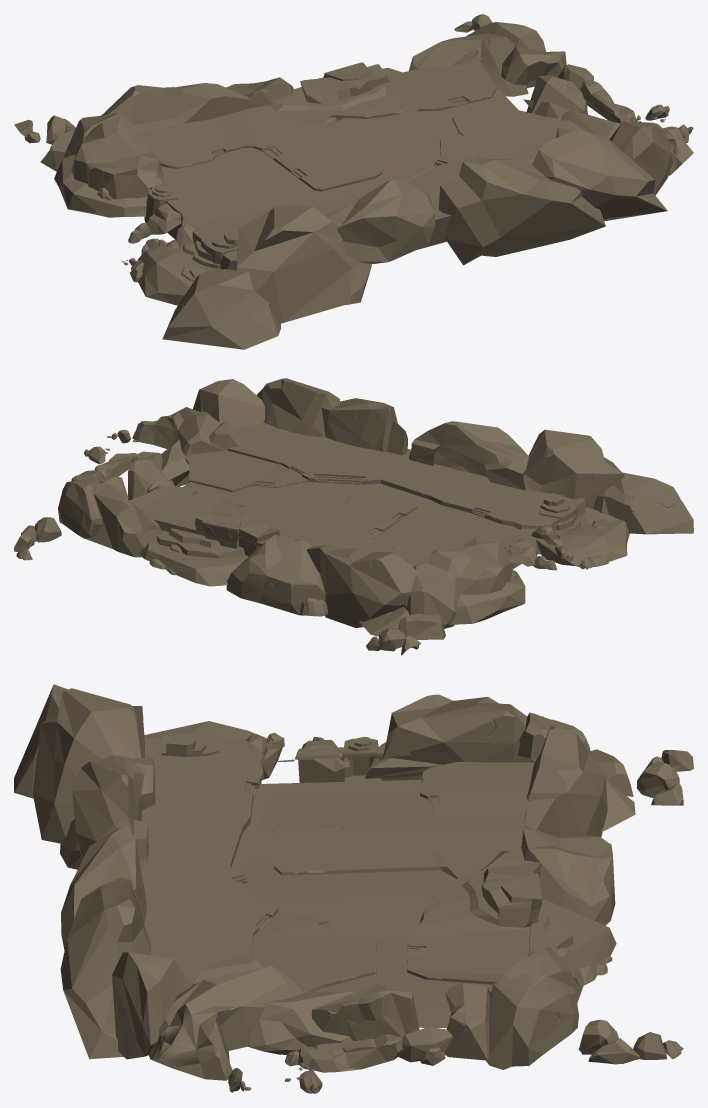
File: Tunisia Ground_Rock.fbx
3 renders of one model, top to bottom at view 1: azimuth 30°, elevation 25°; view 2: azimuth 150°, elevation 25°; view 3: azimuth 270°, elevation 25°, orthographic. The views are drawn at different scales.
Parts seen in each view (by area): view 1: Tunisia Ground_BaseA, Tunisia Ground_Rocks_17.001, Tunisia Ground_Rocks_03.001, Tunisia Ground_Rocks_17, Tunisia Ground_Rocks_01.001, Tunisia Ground_Rocks_03.002, Tunisia Ground_Rocks_09.001, Tunisia Ground_Rocks_06.016, Tunisia Ground_Rocks_04.001, Tunisia Ground_Rocks_06.018, Tunisia Ground_Rocks_18.001, Tunisia Ground_Rocks_08.001 (+10 smaller); view 2: Tunisia Ground_BaseA, Tunisia Ground_Rocks_06.016, Tunisia Ground_Rocks_06.017, Tunisia Ground_Rocks_03.002, Tunisia Ground_Rocks_03.001, Tunisia Ground_Rocks_01.001, Tunisia Ground_Rocks_06.019, Tunisia Ground_Rocks_04.001, Tunisia Ground_Rocks_17.001, Tunisia Ground_Rocks_19.001, Tunisia Ground_Rocks_09.001, Tunisia Ground_Rocks_17 (+13 smaller); view 3: Tunisia Ground_BaseA, Tunisia Ground_Rocks_19.001, Tunisia Ground_Rocks_17, Tunisia Ground_Rocks_03.001, Tunisia Ground_Rocks_09.001, Tunisia Ground_Rocks_06.016, Tunisia Ground_Rocks_15.001, Tunisia Ground_Rocks_03.002, Tunisia Ground_Rocks_06.017, Tunisia Ground_Rocks_18.001, Tunisia Ground_Rocks_11.001, Tunisia Ground_Rocks_06.019 (+17 smaller).
Part boxes in pixels (<box>): Tunisia Ground_BaseA: <box>139,58,561,270</box>; Tunisia Ground_Rocks_17.001: <box>439,159,605,265</box>; Tunisia Ground_Rocks_03.001: <box>237,205,351,323</box>; Tunisia Ground_Rocks_17: <box>532,130,667,221</box>; Tunisia Ground_Rocks_01.001: <box>162,269,280,349</box>; Tunisia Ground_Rocks_03.002: <box>324,179,435,263</box>; Tunisia Ground_Rocks_09.001: <box>71,114,165,200</box>; Tunisia Ground_Rocks_06.016: <box>101,83,254,132</box>; Tunisia Ground_Rocks_04.001: <box>129,239,221,305</box>; Tunisia Ground_Rocks_06.018: <box>408,33,528,96</box>; Tunisia Ground_Rocks_18.001: <box>609,121,673,195</box>; Tunisia Ground_Rocks_08.001: <box>54,154,147,217</box>; Tunisia Ground_BaseA: <box>129,422,585,569</box>; Tunisia Ground_Rocks_06.016: <box>306,545,420,628</box>; Tunisia Ground_Rocks_06.017: <box>226,535,327,616</box>; Tunisia Ground_Rocks_03.002: <box>409,421,528,490</box>; Tunisia Ground_Rocks_03.001: <box>523,429,624,508</box>; Tunisia Ground_Rocks_01.001: <box>593,472,693,534</box>; Tunisia Ground_Rocks_06.019: <box>140,528,248,586</box>; Tunisia Ground_Rocks_04.001: <box>536,507,629,568</box>; Tunisia Ground_Rocks_17.001: <box>321,398,407,455</box>; Tunisia Ground_Rocks_19.001: <box>132,407,243,455</box>; Tunisia Ground_Rocks_09.001: <box>428,537,517,594</box>; Tunisia Ground_Rocks_17: <box>256,378,339,437</box>; Tunisia Ground_BaseA: <box>140,733,542,1028</box>; Tunisia Ground_Rocks_19.001: <box>148,955,302,1080</box>; Tunisia Ground_Rocks_17: <box>60,877,150,1059</box>; Tunisia Ground_Rocks_03.001: <box>32,688,144,843</box>; Tunisia Ground_Rocks_09.001: <box>382,694,527,764</box>; Tunisia Ground_Rocks_06.016: <box>524,726,607,836</box>; Tunisia Ground_Rocks_15.001: <box>486,974,578,1069</box>; Tunisia Ground_Rocks_03.002: <box>72,755,155,867</box>; Tunisia Ground_Rocks_06.017: <box>521,825,615,925</box>; Tunisia Ground_Rocks_18.001: <box>112,952,192,1059</box>; Tunisia Ground_Rocks_11.001: <box>311,983,419,1040</box>; Tunisia Ground_Rocks_06.019: <box>529,900,616,985</box>.
Bounding box in the file's own units: 8548 × 1536 × 6341.
